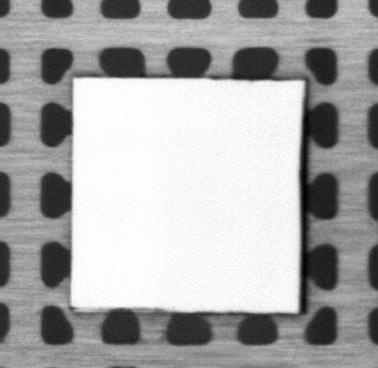DIE_BROKEN: (296, 85, 308, 316)
